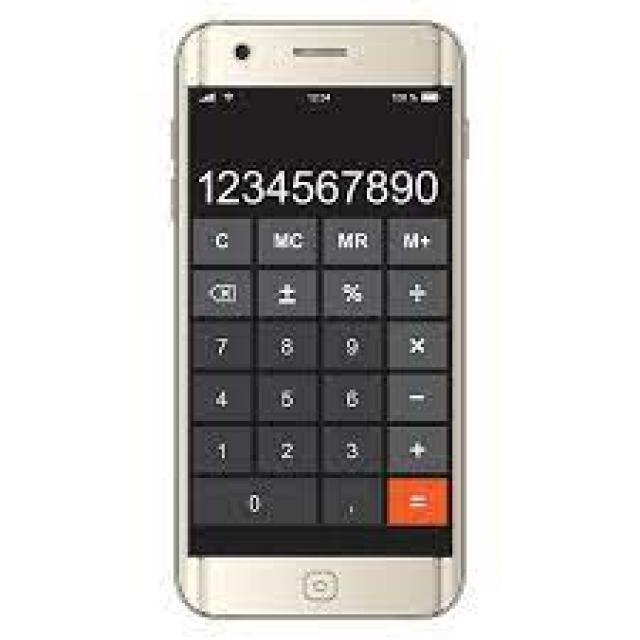Calculator: (164, 19, 473, 618)
